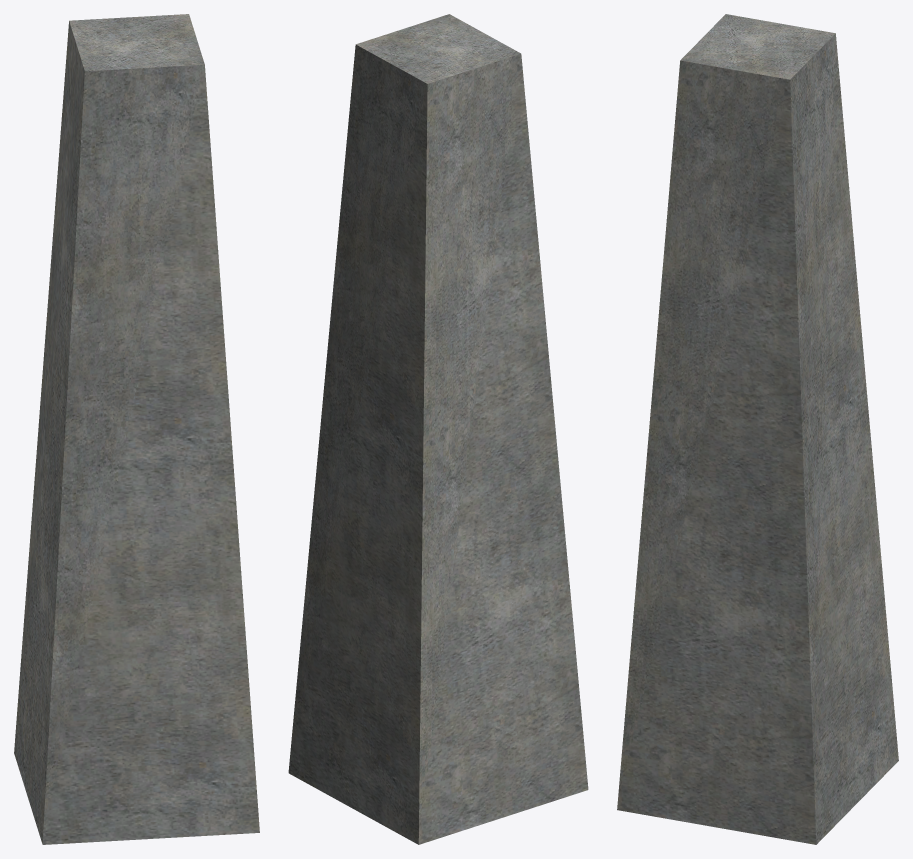
File: mun_all_military_column_weak_impl_s01_l2.fbx
3 renders of one model, left to right at view 1: azimuth 30°, elevation 25°; view 2: azimuth 150°, elevation 25°; view 3: azimuth 270°, elevation 25°, orthographic. The views are drawn at different scales.
Visible parts, largest first — view 1: mesh_node; view 2: mesh_node; view 3: mesh_node.
Part boxes in pixels (left/top/right/bottom): mesh_node: left=14, top=14, right=259, bottom=844; mesh_node: left=288, top=14, right=588, bottom=844; mesh_node: left=617, top=14, right=898, bottom=844.
Size of the model in its own units: 2.16 by 6.25 by 2.16.
